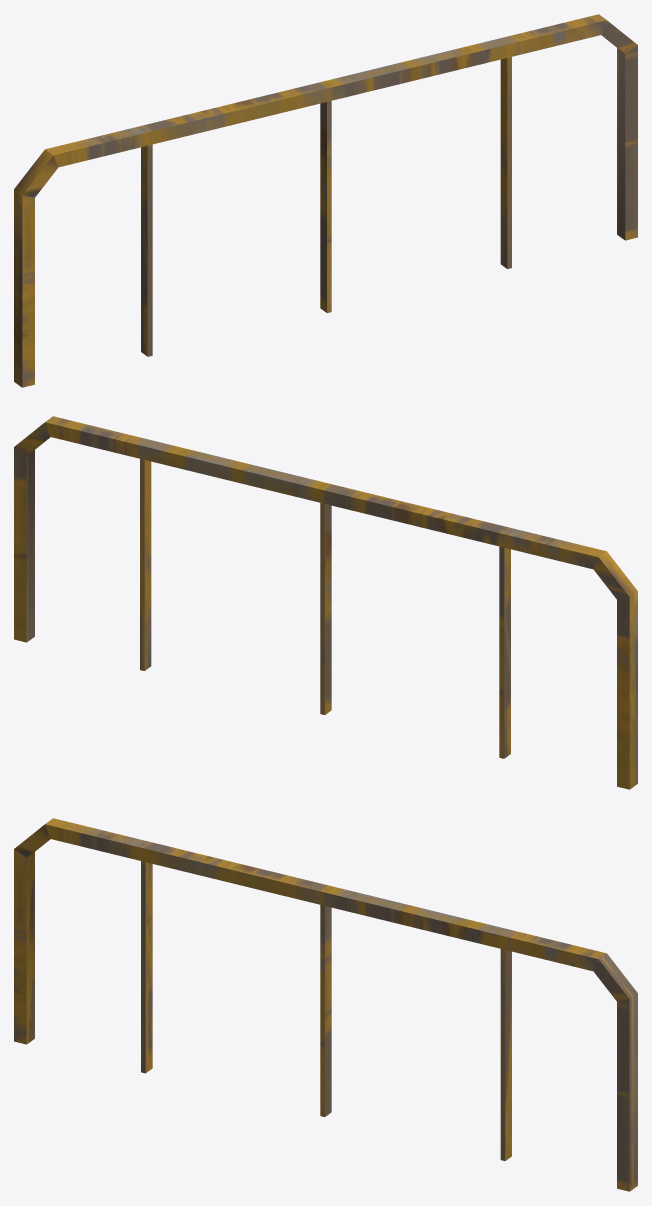
The model's file is SM_Railings01.gltf.
The picture shows the model from 3 angles, top to bottom: view 1: azimuth 30°, elevation 25°; view 2: azimuth 150°, elevation 25°; view 3: azimuth 330°, elevation 25°; orthographic projection.
Visible parts, largest first — view 1: SM_Railings01; view 2: SM_Railings01; view 3: SM_Railings01.
Boxes of the visible parts, bbox=[...] form: SM_Railings01: bbox=[14, 14, 637, 387]; SM_Railings01: bbox=[14, 416, 637, 789]; SM_Railings01: bbox=[14, 818, 637, 1191].
Bounding box in the file's own units: 2.38 × 0.8307 × 0.055.
1 material, 1 textured.
